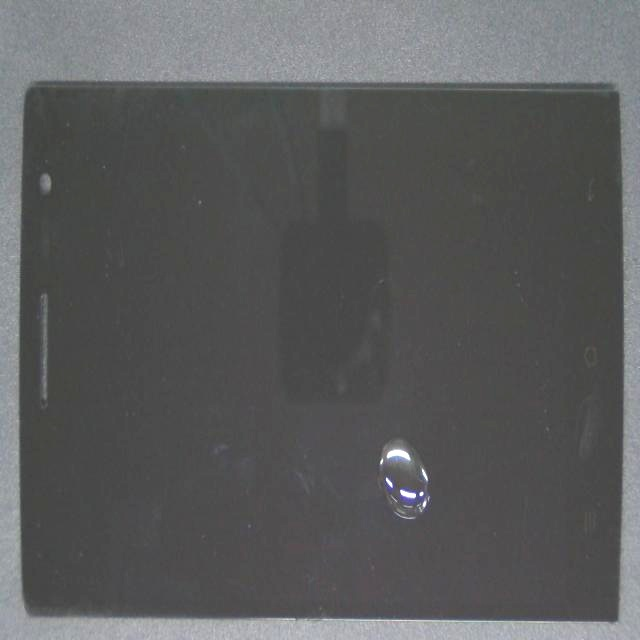oil: (230, 271, 640, 640)
